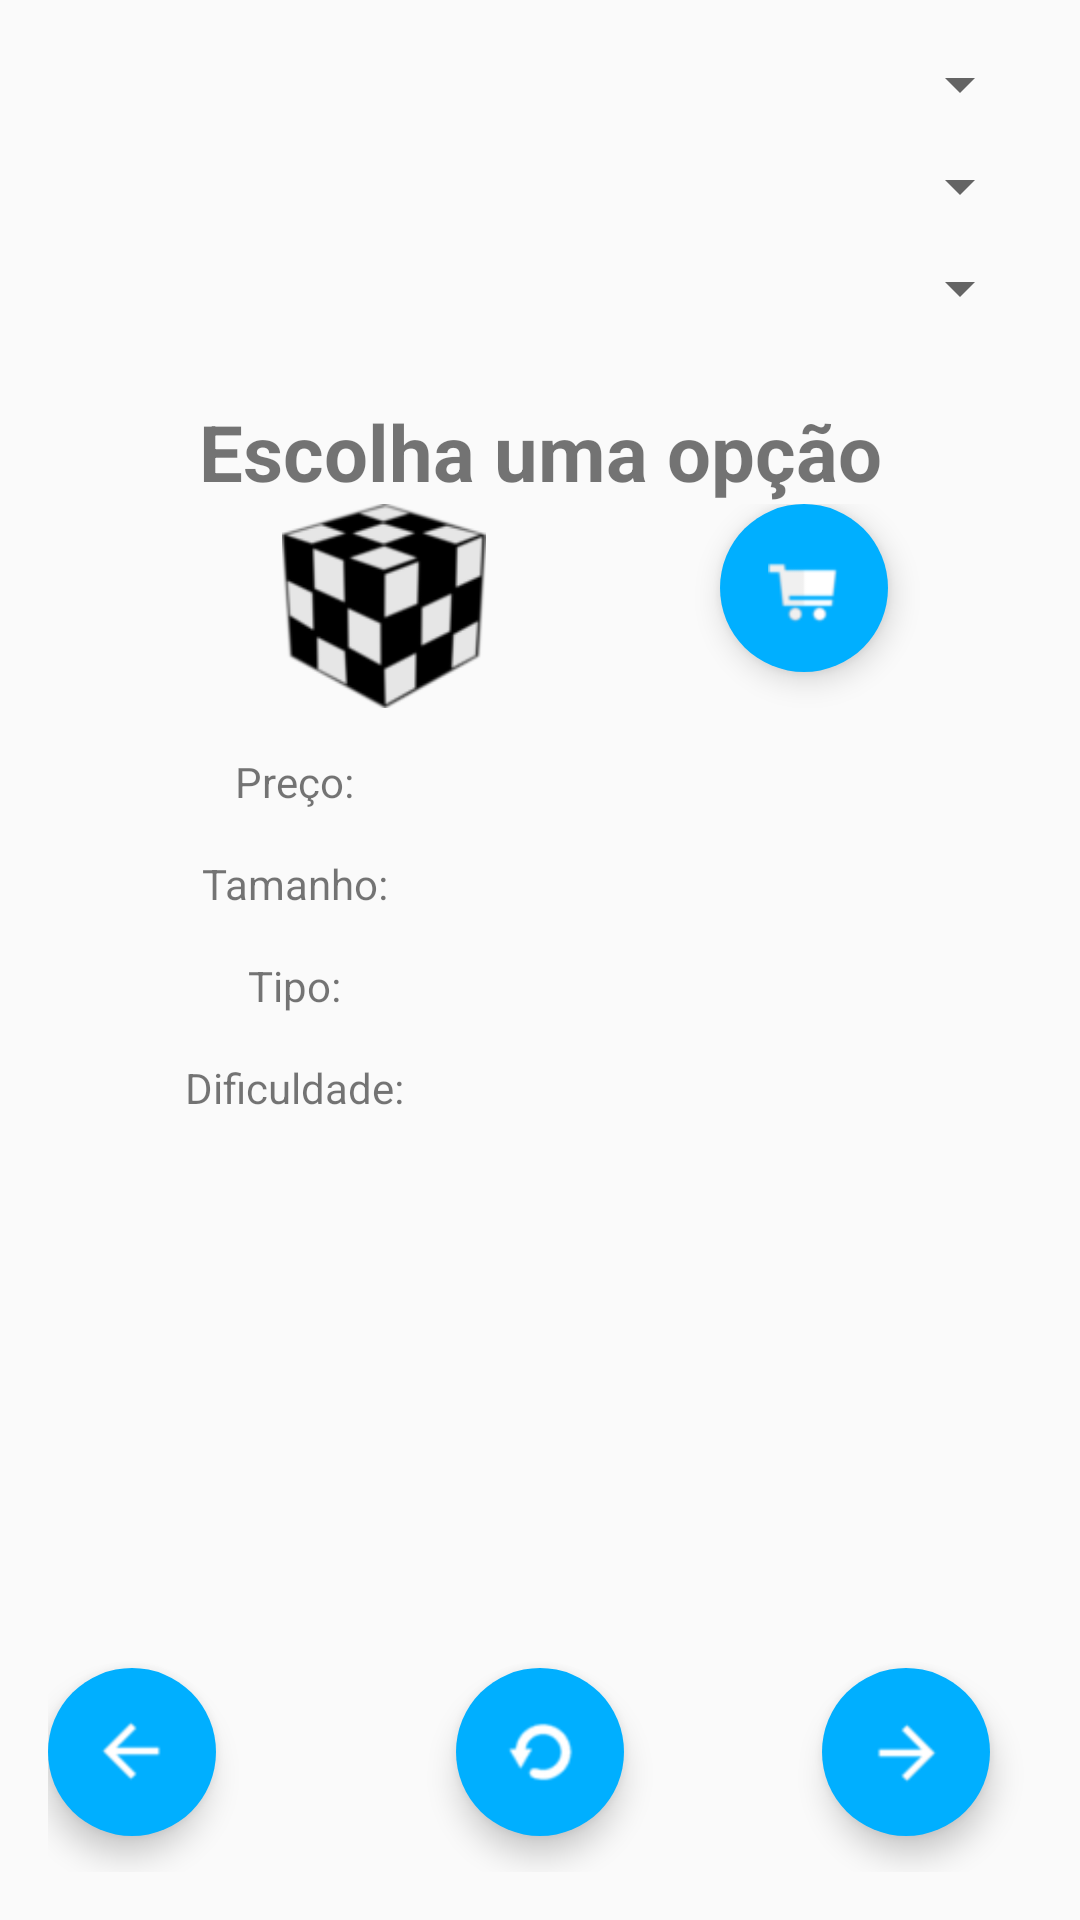

Screen size 1080px×1920px. Icon name, then its center in pixels as point (x, y):
cube init: point (384, 606)
fab cart: point (804, 588)
fab next: point (906, 1752)
fab previous: point (132, 1752)
